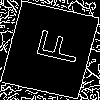F: (25, 25, 83, 67)
